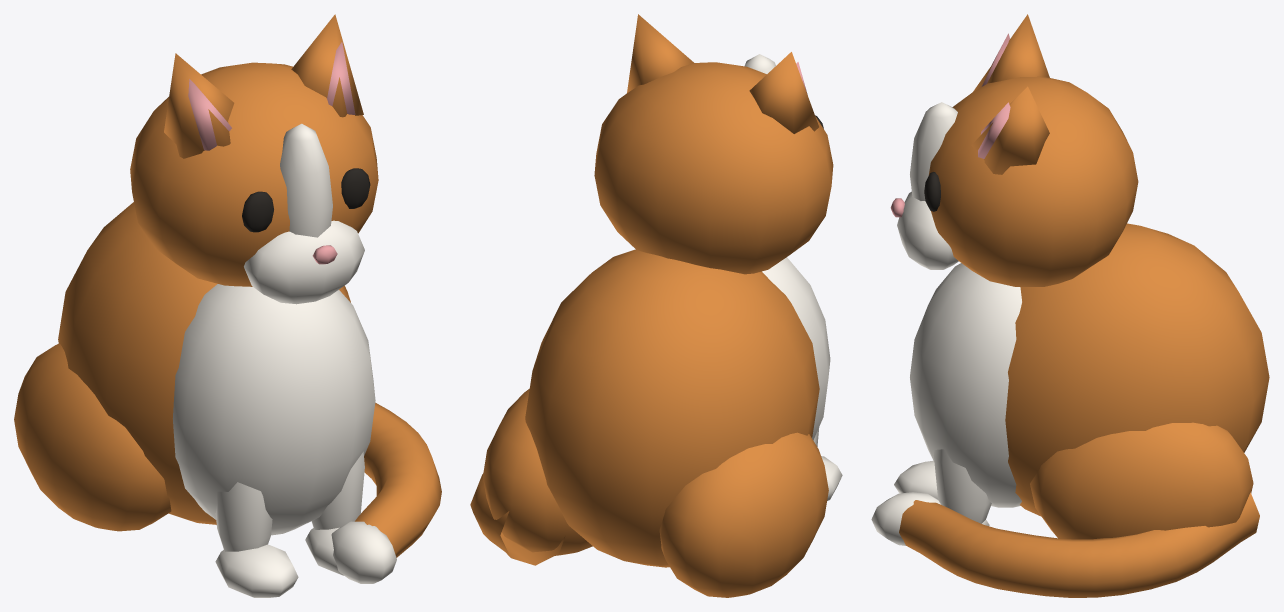
Rendered from pinto.glb.
3 renders of one model, left to right at view 1: azimuth 30°, elevation 25°; view 2: azimuth 150°, elevation 25°; view 3: azimuth 270°, elevation 25°, orthographic. The views are drawn at different scales.
Parts seen in each view (by area): view 1: Pinto_Body, Pinto_Blaze, Pinto_EarInner_L, Pinto_Eye_L; view 2: Pinto_Body, Pinto_Blaze; view 3: Pinto_Body, Pinto_Blaze, Pinto_EarInner_L, Pinto_Eye_L.
Boxes of the visible parts, box(x1,y1,x2,y2) form: Pinto_Body: box(14, 14, 441, 557); Pinto_Blaze: box(172, 123, 396, 597); Pinto_EarInner_L: box(188, 41, 355, 264); Pinto_Eye_L: box(242, 168, 370, 232); Pinto_Body: box(470, 14, 833, 597); Pinto_Blaze: box(744, 54, 842, 500); Pinto_Body: box(899, 14, 1269, 597); Pinto_Blaze: box(871, 102, 1021, 545); Pinto_EarInner_L: box(890, 33, 1010, 217); Pinto_Eye_L: box(924, 172, 940, 211).
Size of the model in its own units: 0.2331 by 0.3279 by 0.249.
